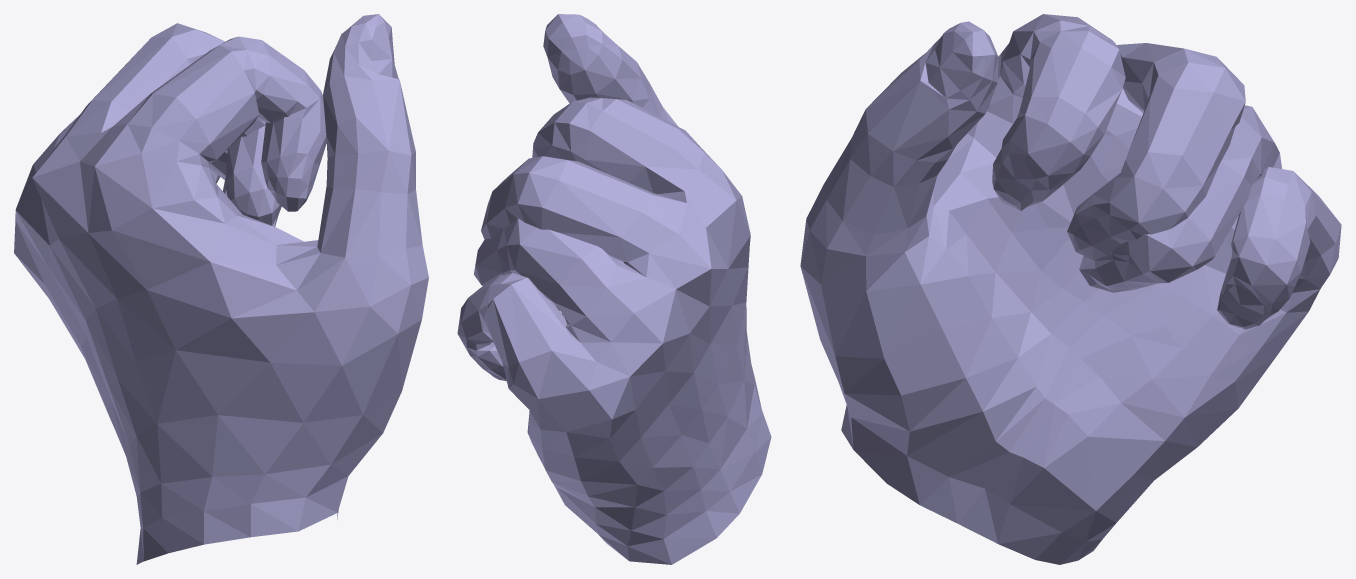
File: frame_0087_source_000087_hand.glb
The picture shows the model from 3 angles, left to right: view 1: azimuth 30°, elevation 25°; view 2: azimuth 150°, elevation 25°; view 3: azimuth 270°, elevation 25°; orthographic projection. The views are drawn at different scales.
Visible parts, largest first — view 1: world; view 2: world; view 3: world.
Boxes of the visible parts, <box> form: world: <box>14,14,428,564</box>; world: <box>457,14,771,564</box>; world: <box>800,14,1341,564</box>.
Bounding box in the file's own units: 0.0637 × 0.1218 × 0.1011.
